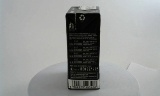appy: (60, 5, 95, 91)
